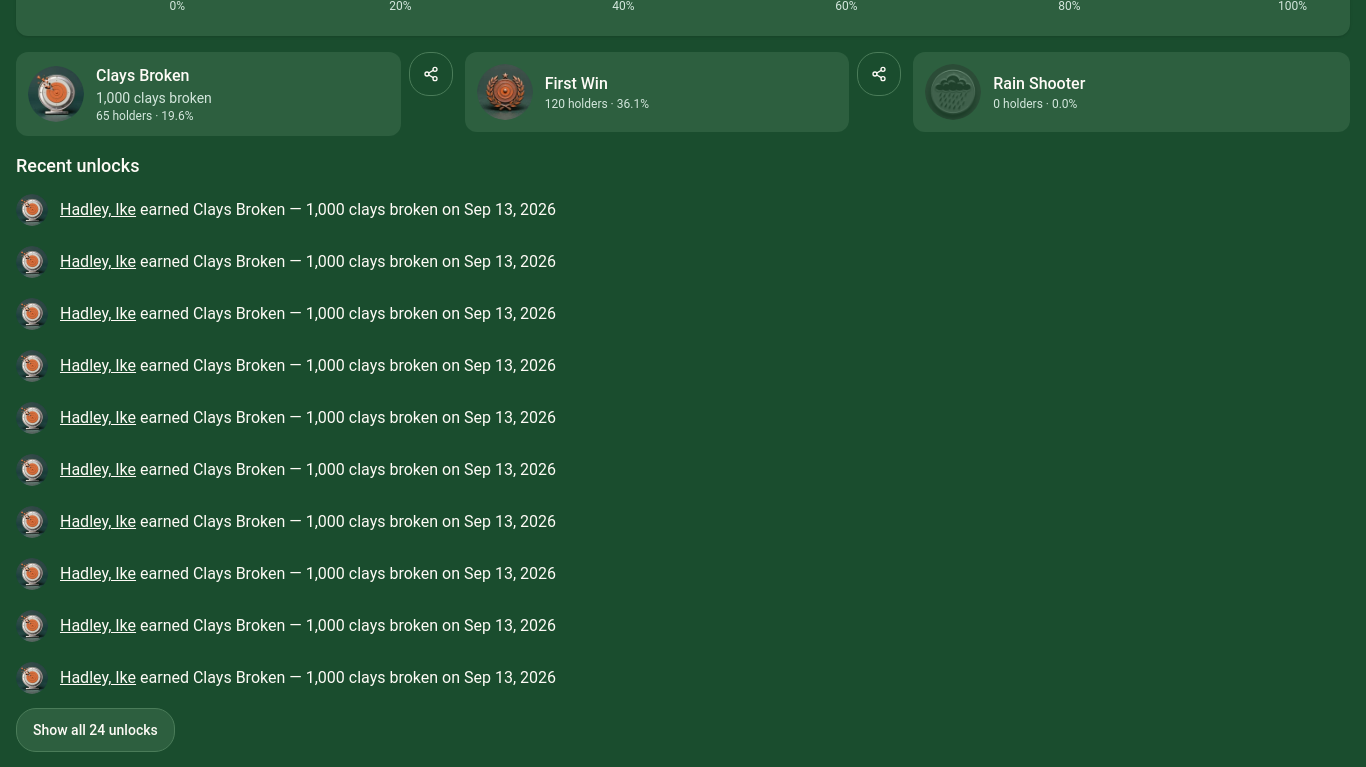
Test: TrophyRoomPage › shows 10 recent unlocks, then every one after "Show all N"
(page scrolled)
Step 1. Click the button "Show all 24 unlocks" → click(95, 730), box [16,708,175,752]
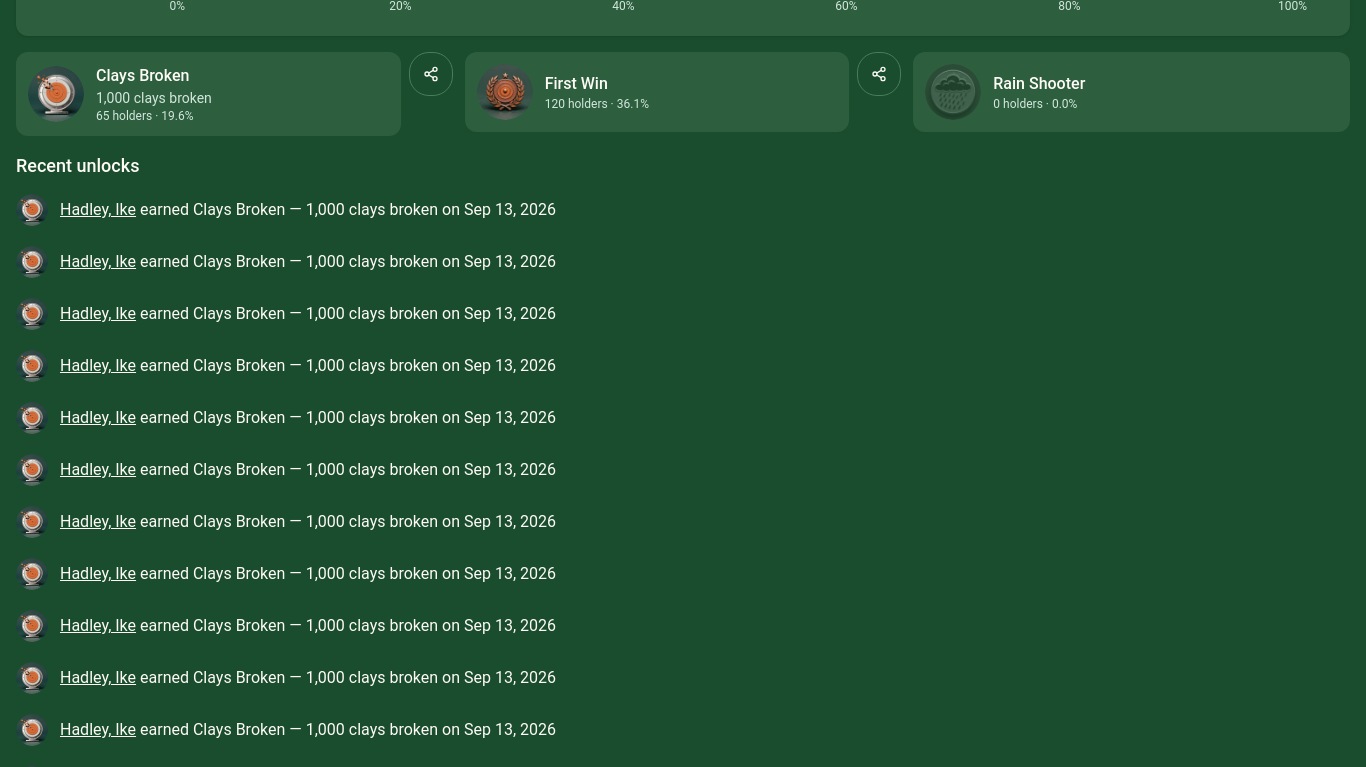
Expected: the button "Show all" is gone
